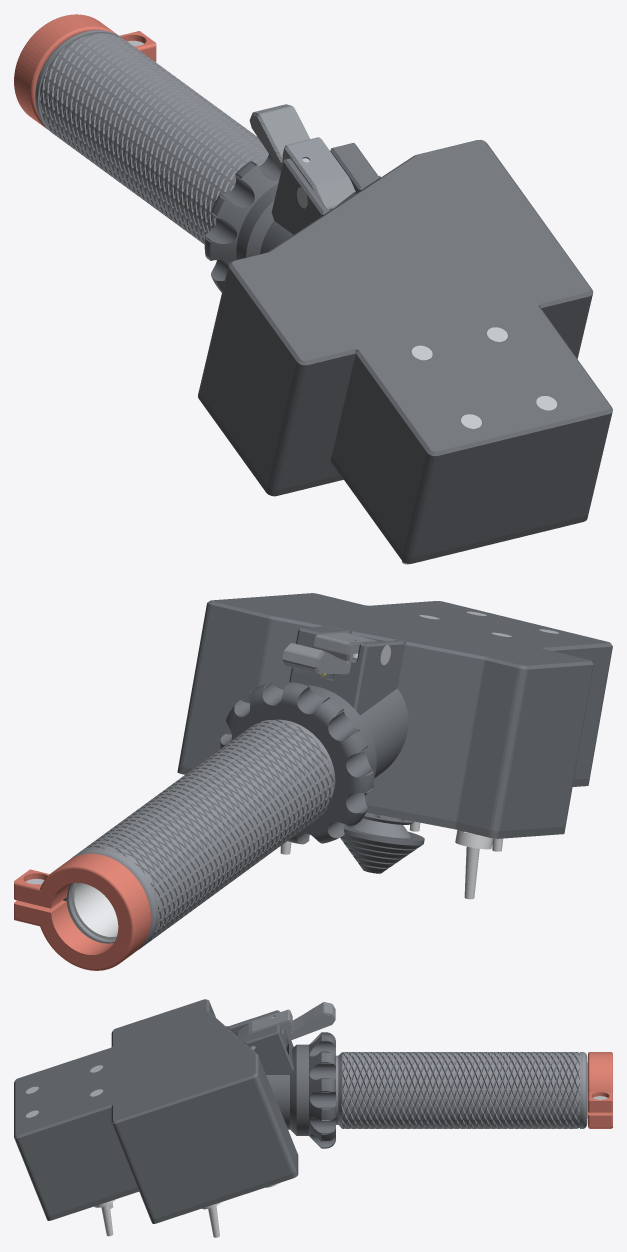
Rendered from HueyHeadR4_Assembly.glb.
3 renders of one model, top to bottom at view 1: azimuth 30°, elevation 25°; view 2: azimuth 150°, elevation 25°; view 3: azimuth 270°, elevation 25°, orthographic. The views are drawn at different scales.
Visible parts, largest first — view 1: Body, Throttle grip, Trigger, Friction collar, Upper panel, Lower panel, HeliSR screws M3 x 12; view 2: Body, Throttle grip, Friction collar, Trigger, Search hat, Tube, Lower panel, Lower toggles and STOP REL, MkII 4-way hat (approx.); view 3: Body, Throttle grip, Friction collar, Trigger, Lower panel, Upper panel, Upper toggles.
Boxes of the visible parts, left/top/right/bottom form: Body: left=199, top=139, right=612, bottom=557; Throttle grip: left=35, top=30, right=268, bottom=244; Trigger: left=249, top=104, right=355, bottom=210; Friction collar: left=14, top=14, right=156, bottom=129; Upper panel: left=330, top=456, right=588, bottom=563; Lower panel: left=198, top=390, right=343, bottom=496; HeliSR screws M3 x 12: left=411, top=327, right=557, bottom=428; Body: left=178, top=593, right=612, bottom=844; Throttle grip: left=68, top=719, right=335, bottom=950; Friction collar: left=14, top=853, right=150, bottom=970; Trigger: left=282, top=633, right=378, bottom=674; Search hat: left=340, top=824, right=424, bottom=873; Tube: left=71, top=883, right=118, bottom=939; Lower panel: left=177, top=765, right=565, bottom=838; Lower toggles and STOP REL: left=280, top=830, right=493, bottom=899; MkII 4-way hat (approx.): left=347, top=812, right=414, bottom=838; Body: left=14, top=999, right=335, bottom=1219; Throttle grip: left=336, top=1052, right=587, bottom=1128; Friction collar: left=588, top=1052, right=612, bottom=1128; Trigger: left=237, top=1002, right=335, bottom=1040; Lower panel: left=150, top=1151, right=298, bottom=1223; Upper panel: left=45, top=1187, right=138, bottom=1220; Upper toggles: left=94, top=1199, right=115, bottom=1236.
Bounding box in the file's own units: 107 × 112 × 288.
